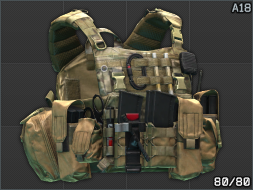Ars Arma A18 Skanda plate carrier: (0, 0, 253, 190)
